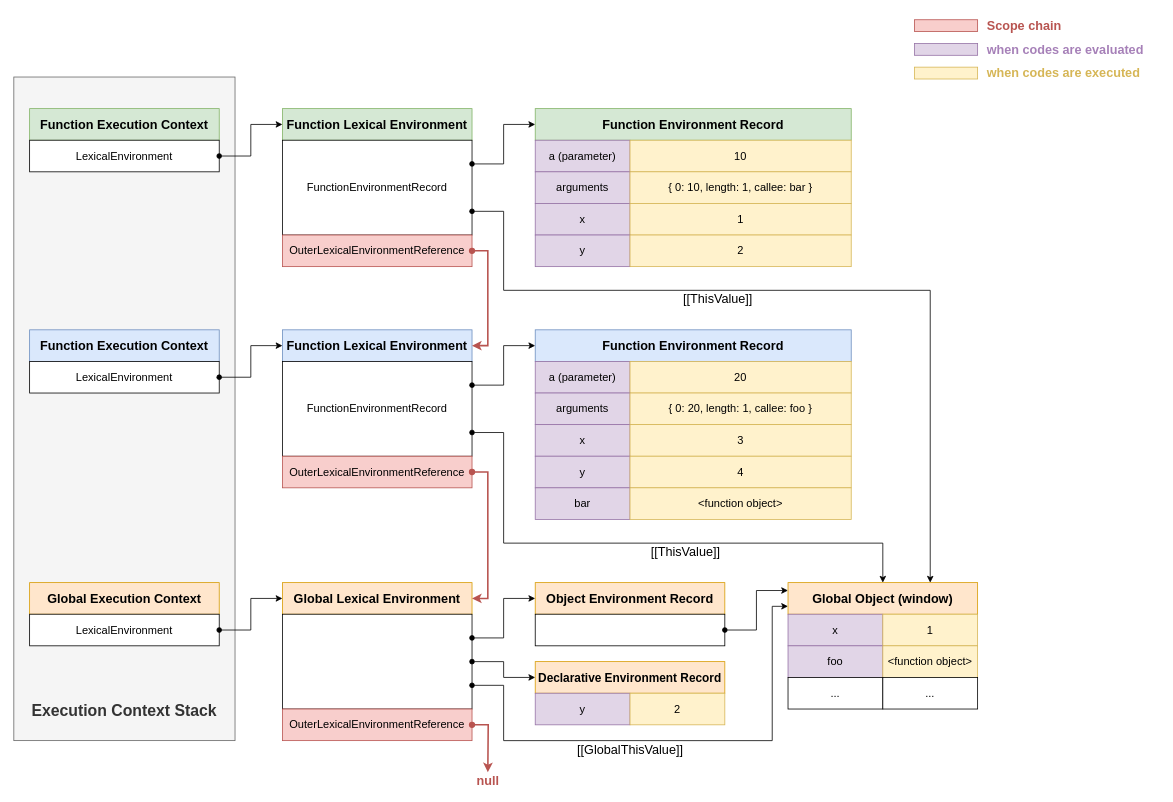
This 1173x802 diagram has some shape labels left out. The centre of each missing label's shape, as x and y in pixels:
"BindingObject" belongs at (x=629, y=629).
"GlobalEnvironmentRecord" belongs at (x=377, y=661).
